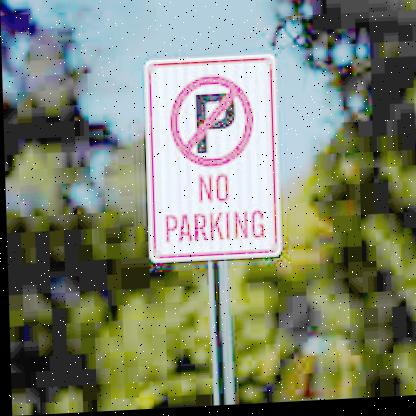No parking: (160, 65, 259, 179)
